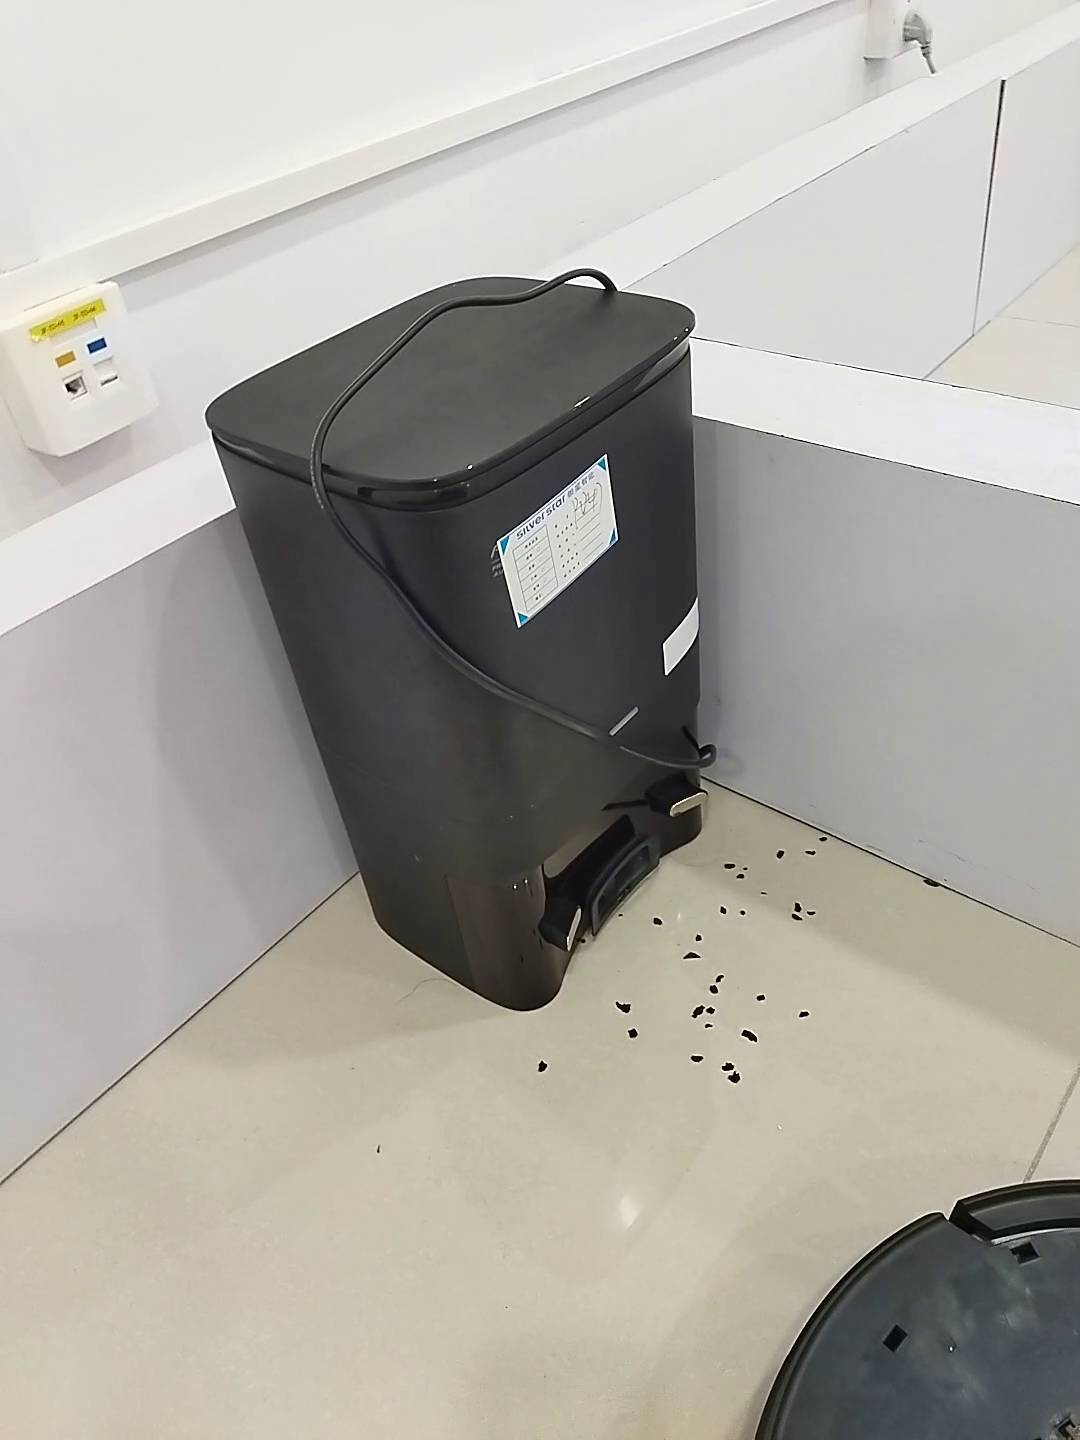dust collecting barrel: (205, 278, 701, 1010)
